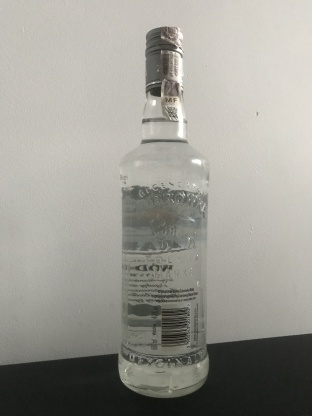nakretka: (143, 24, 186, 94)
